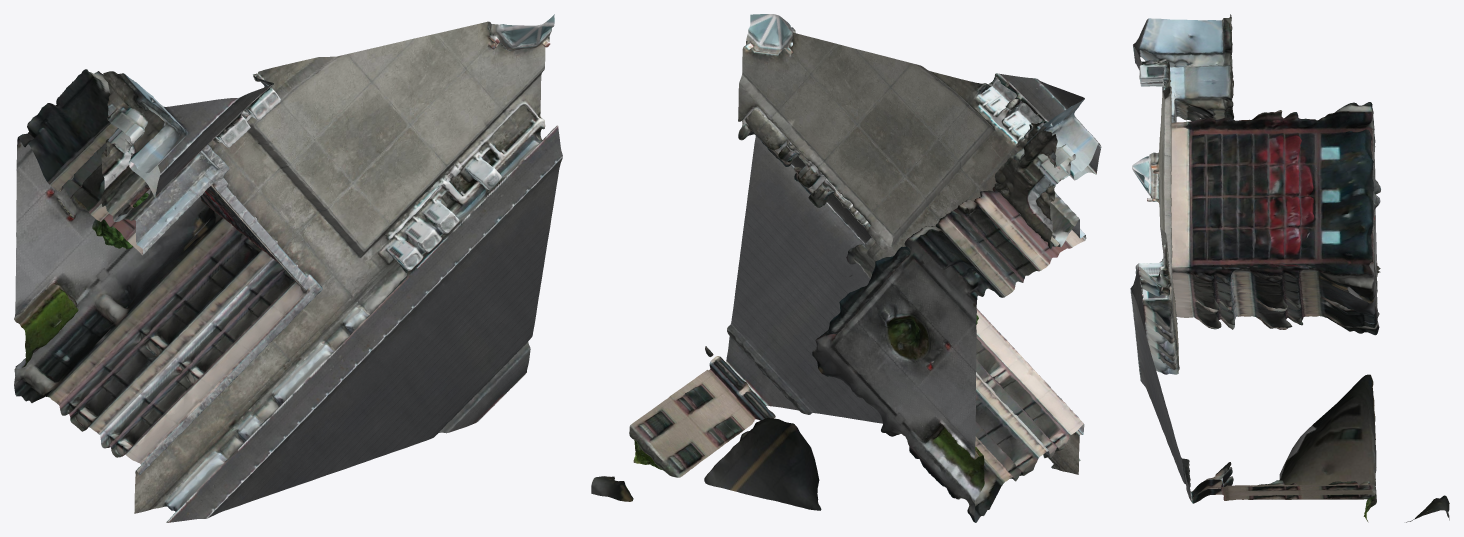
File: Tile_+007_+026.fbx
3 renders of one model, left to right at view 1: azimuth 30°, elevation 25°; view 2: azimuth 150°, elevation 25°; view 3: azimuth 270°, elevation 25°, orthographic. The views are drawn at different scales.
Visible parts, largest first — view 1: DefaultName; view 2: DefaultName; view 3: DefaultName.
Boxes of the visible parts, left/top/right/bottom form: DefaultName: left=14, top=14, right=562, bottom=522; DefaultName: left=591, top=14, right=1101, bottom=522; DefaultName: left=1130, top=14, right=1449, bottom=522.
Size of the model in its own units: 22.54 by 22.54 by 18.78.
